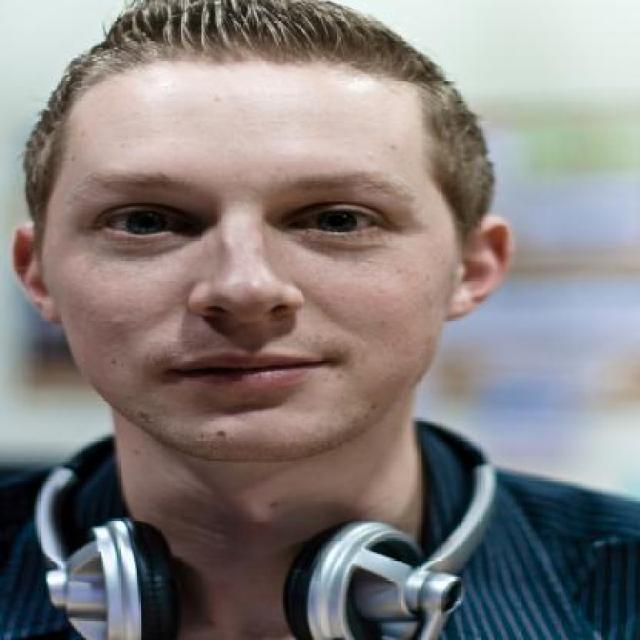earphone: (27, 428, 576, 640)
